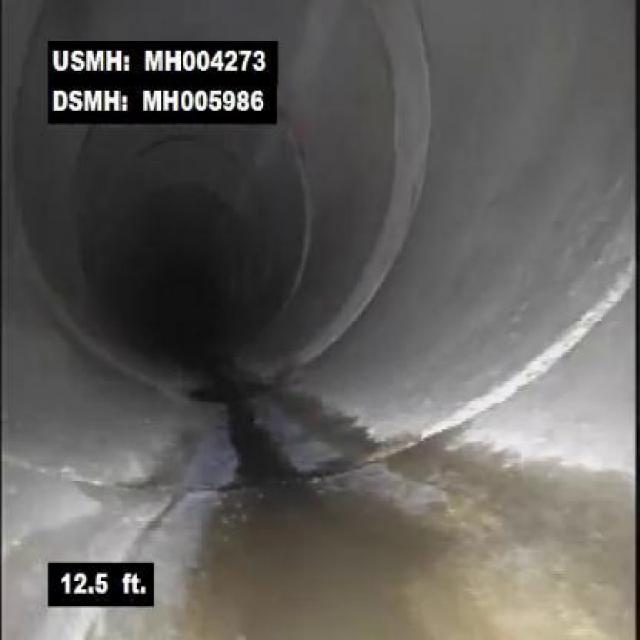Joint offset: (319, 1, 466, 362)
